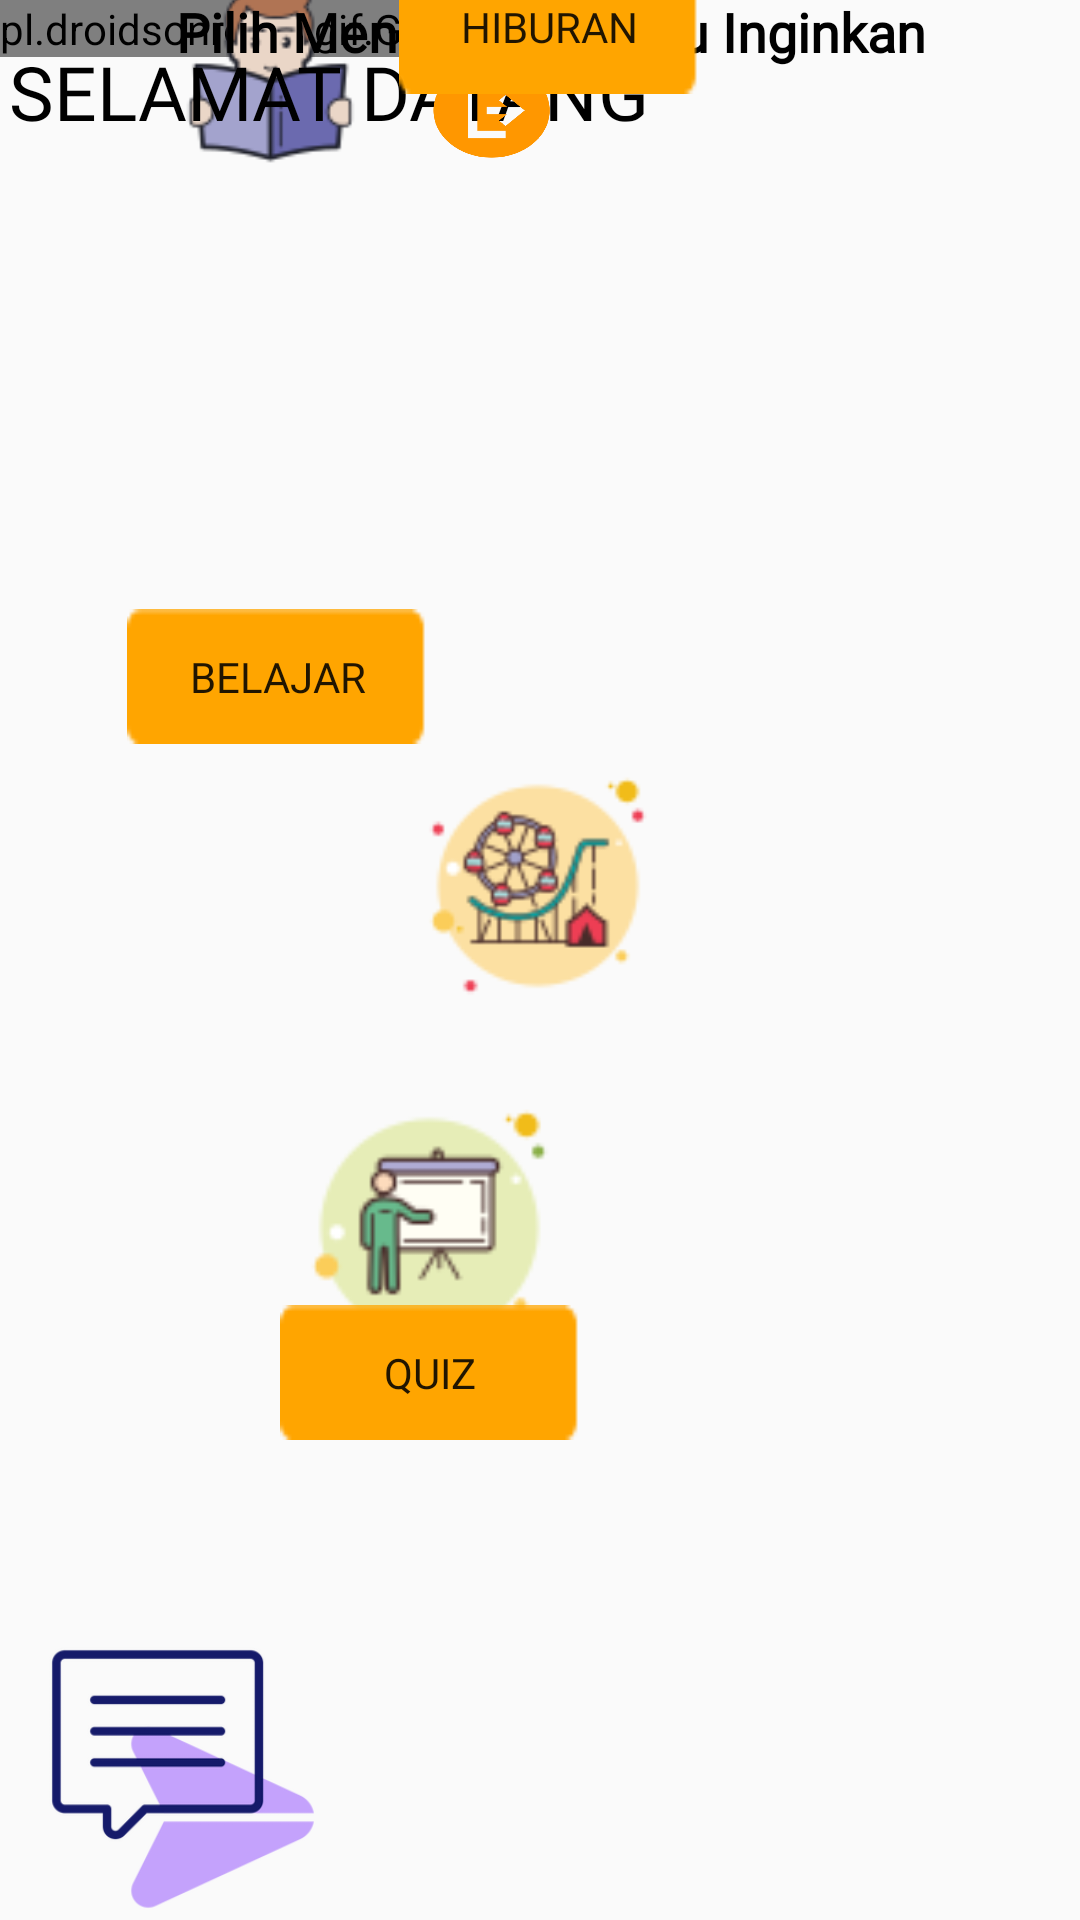

Point at icon controls on the screen. Image size 1080x1920, points as (x=x, y=y).
pesan: (x=183, y=1779)
rolcoster: (x=538, y=885)
